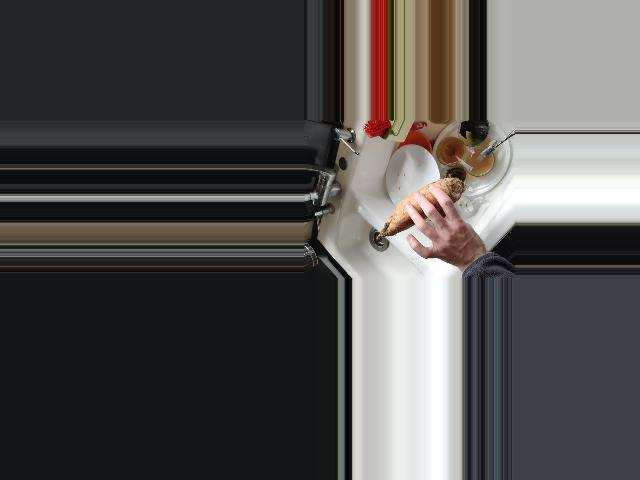sweet_potato: (375, 177, 463, 240)
